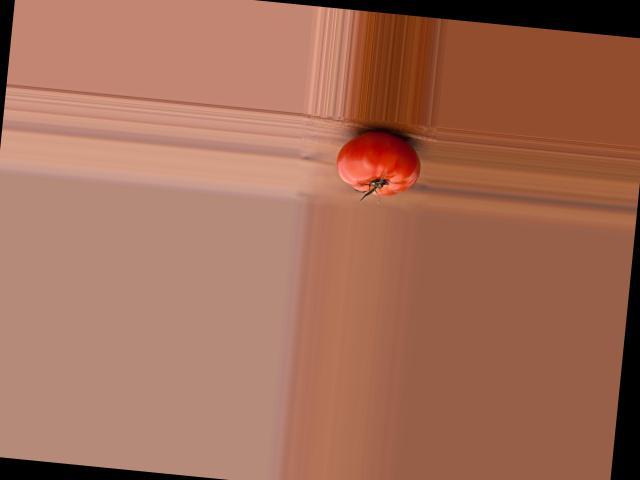tomato: (332, 127, 422, 198)
